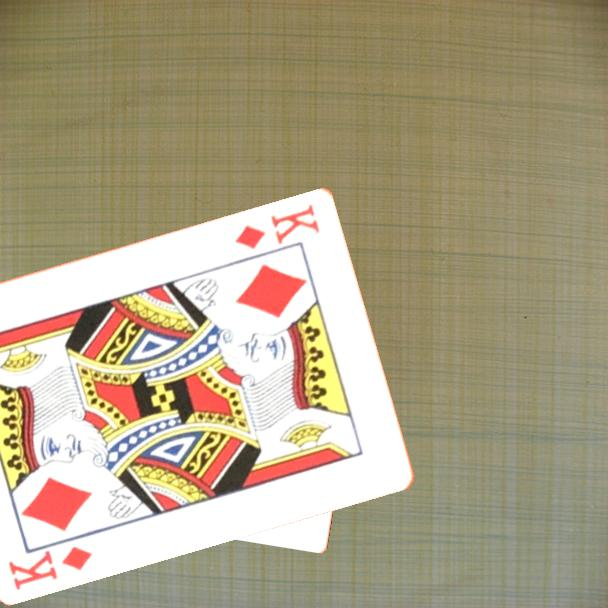d13: (232, 200, 323, 252), (5, 542, 96, 592)
